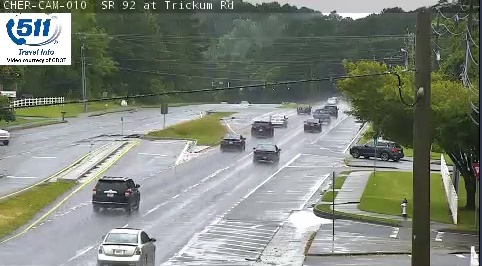car: (97, 229, 157, 266), (92, 177, 140, 209), (254, 145, 280, 163), (220, 134, 244, 150), (252, 121, 274, 137), (269, 115, 286, 128), (304, 119, 320, 132), (312, 109, 329, 121)
